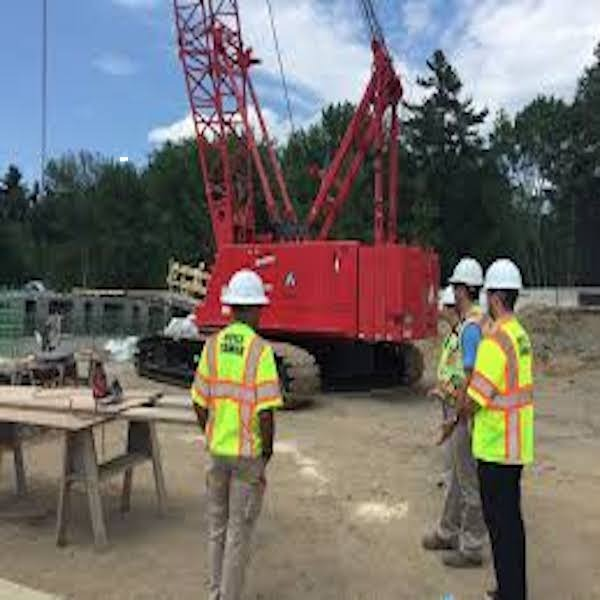helmet: (221, 265, 270, 306), (483, 258, 524, 291), (449, 254, 487, 289)
vest: (194, 324, 281, 455), (468, 318, 537, 467)
